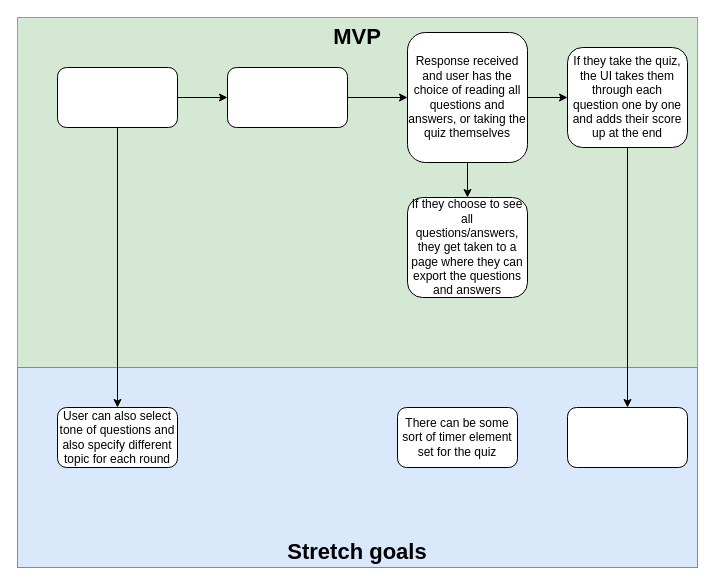
Image size: 715x585. Some labels were removed from this diagram. The centre of each missing label's shape, as x and y in pixels:
"Many users can take the same quiz and quiz will show final scores at the end?" goes at (x=627, y=437).
"User enters topic & number of rounds & number of questions per round" goes at (x=117, y=97).
"User input sent to AI to generate questions in Structured Output formatting" goes at (x=287, y=97).
